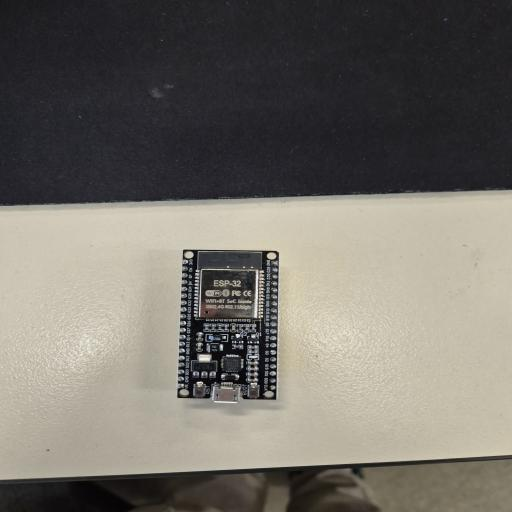esp32-dev: (182, 247, 279, 401)
